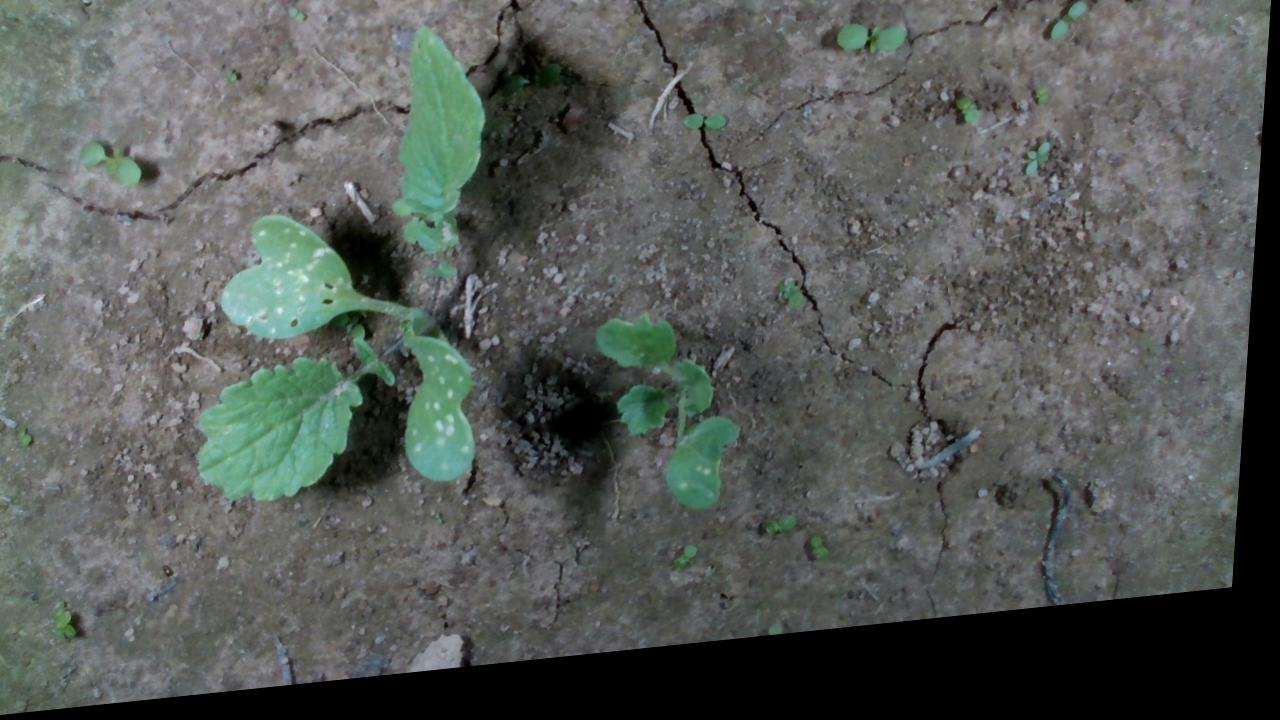weed: (76, 136, 147, 196), (1049, 20, 1089, 63), (682, 123, 730, 147), (1026, 162, 1055, 200), (956, 113, 984, 149), (768, 529, 806, 554), (680, 558, 707, 587), (816, 550, 839, 581), (1035, 104, 1052, 130), (286, 10, 308, 29), (19, 426, 38, 448)
